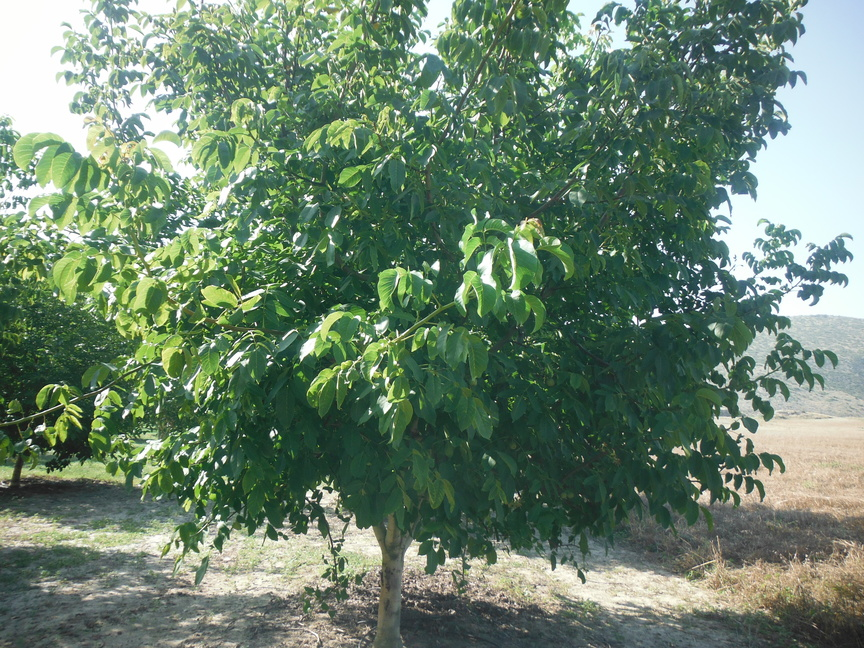walnut: (656, 139, 669, 155), (543, 375, 556, 389), (467, 375, 479, 388), (567, 488, 577, 502), (507, 440, 519, 451), (558, 489, 569, 501)
